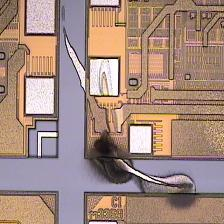PARTICLE: (58, 4, 203, 214)
